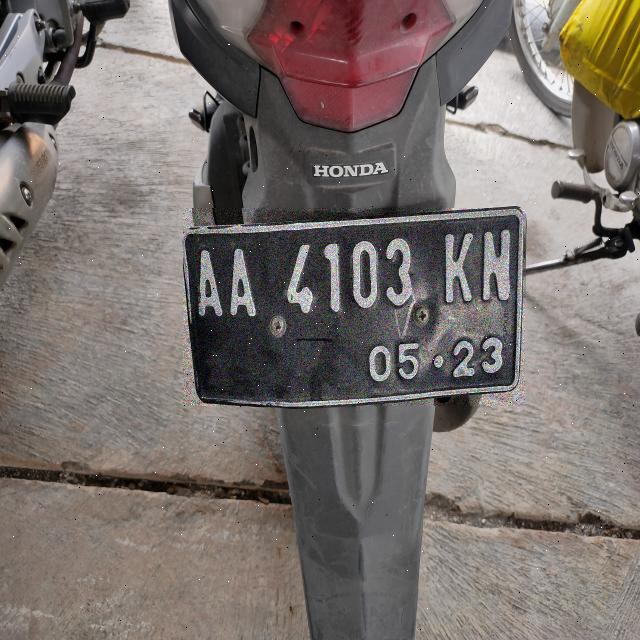plate: (183, 208, 523, 405)
